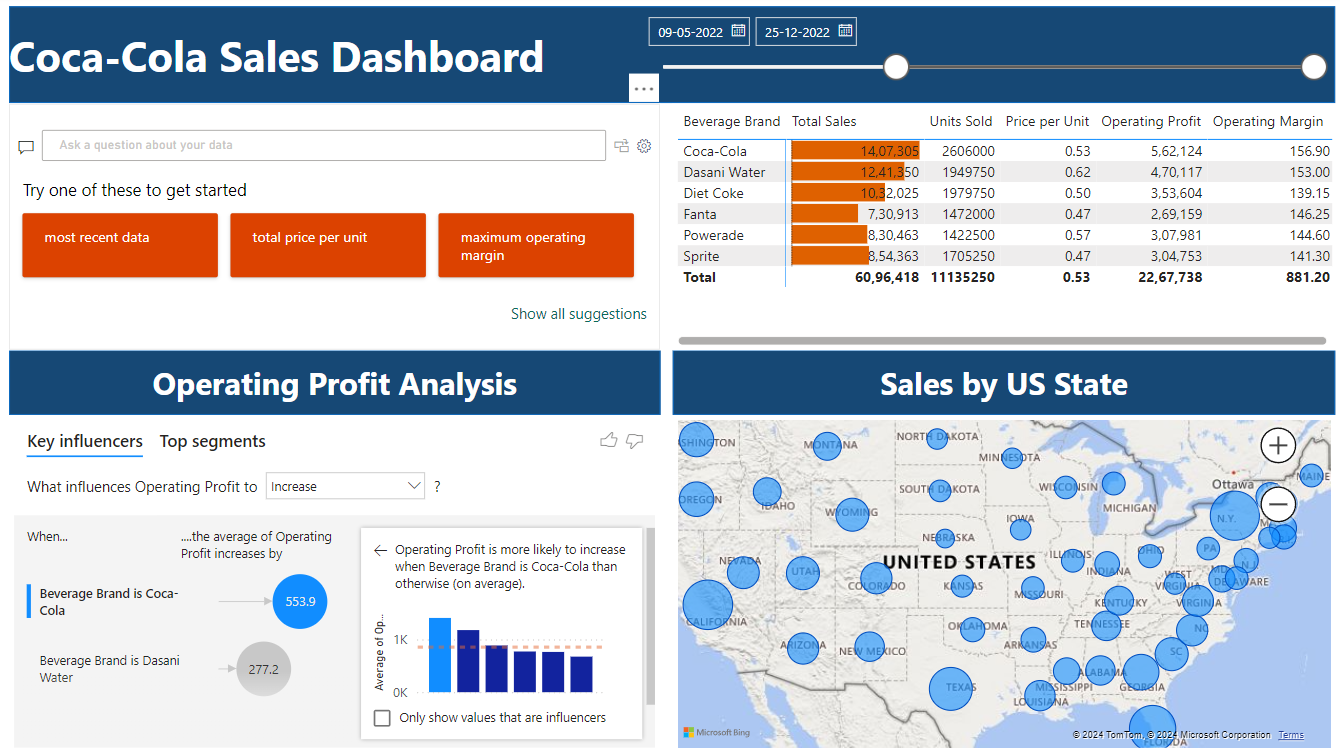

What the dashboard file says about the page in this screenshot:
{"tool":"powerbi","page":{"name":"Page 1","canvas":[1280,720],"ordinal":0},"visuals":[{"type":"shape","box":[640,337.2,629.3,61.7],"z":0},{"type":"shape","box":[9.6,11,1259.7,91.9],"z":1000},{"type":"shape","box":[9.6,337.6,618.9,61.7],"z":2000},{"type":"qnaVisual","box":[9.6,102.9,618.9,234.6],"z":3000},{"type":"keyDriversVisual","fields":{"Target":["Data.Operating Profit"],"ExplainBy":["Data.Beverage Brand"]},"box":[9.6,399.3,618.9,321.1],"z":4000},{"type":"map","fields":{"Category":["Data.State"],"Size":["Sum(Data.Total Sales)"]},"box":[639.5,399.3,629.8,321.1],"z":5000},{"type":"pivotTable","fields":{"Rows":["Data.Beverage Brand"],"Values":["Sum(Data.Total Sales)","Sum(Data.Units Sold)","Avg(Data.Price per Unit)","Sum(Data.Operating Profit)","Sum(Data.Operating Margin)"]},"box":[639.5,102.9,631.2,234.6],"z":6000},{"type":"slicer","fields":{"Values":["Data.Invoice Date"]},"box":[603.8,11,665.5,91.9],"z":6001}]}

Visuals, with their boxes in screenshot pixels (x1, y1, x2, y2), scaled from the page's 1280x720 canvas onto the 1340x752 screenshot:
shape: [670, 352, 1329, 417]
shape: [10, 11, 1329, 107]
shape: [10, 353, 658, 417]
qnaVisual: [10, 107, 658, 352]
keyDriversVisual - Data.Operating Profit x Data.Beverage Brand: [10, 417, 658, 751]
map - Data.State x Sum(Data.Total Sales): [669, 417, 1329, 751]
pivotTable - Data.Beverage Brand x Sum(Data.Total Sales): [669, 107, 1330, 352]
slicer - Data.Invoice Date: [632, 11, 1329, 107]
